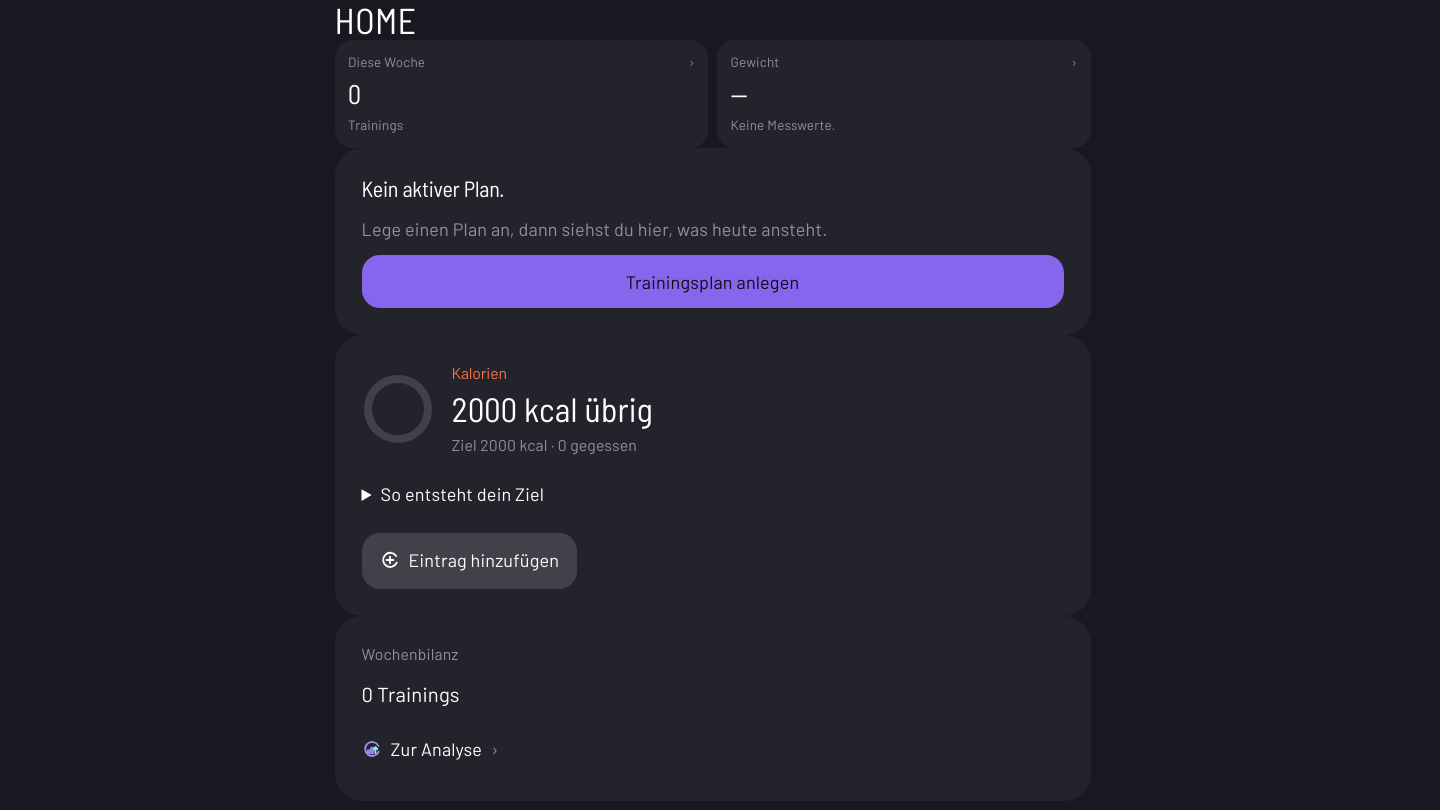
Test: HomePage › adds a meal right from the calorie card
The width and height of the screenshot is (1440, 810).
Step 1. Click the button "Eintrag hinzufügen" → (469, 561), box [362,533,577,589]
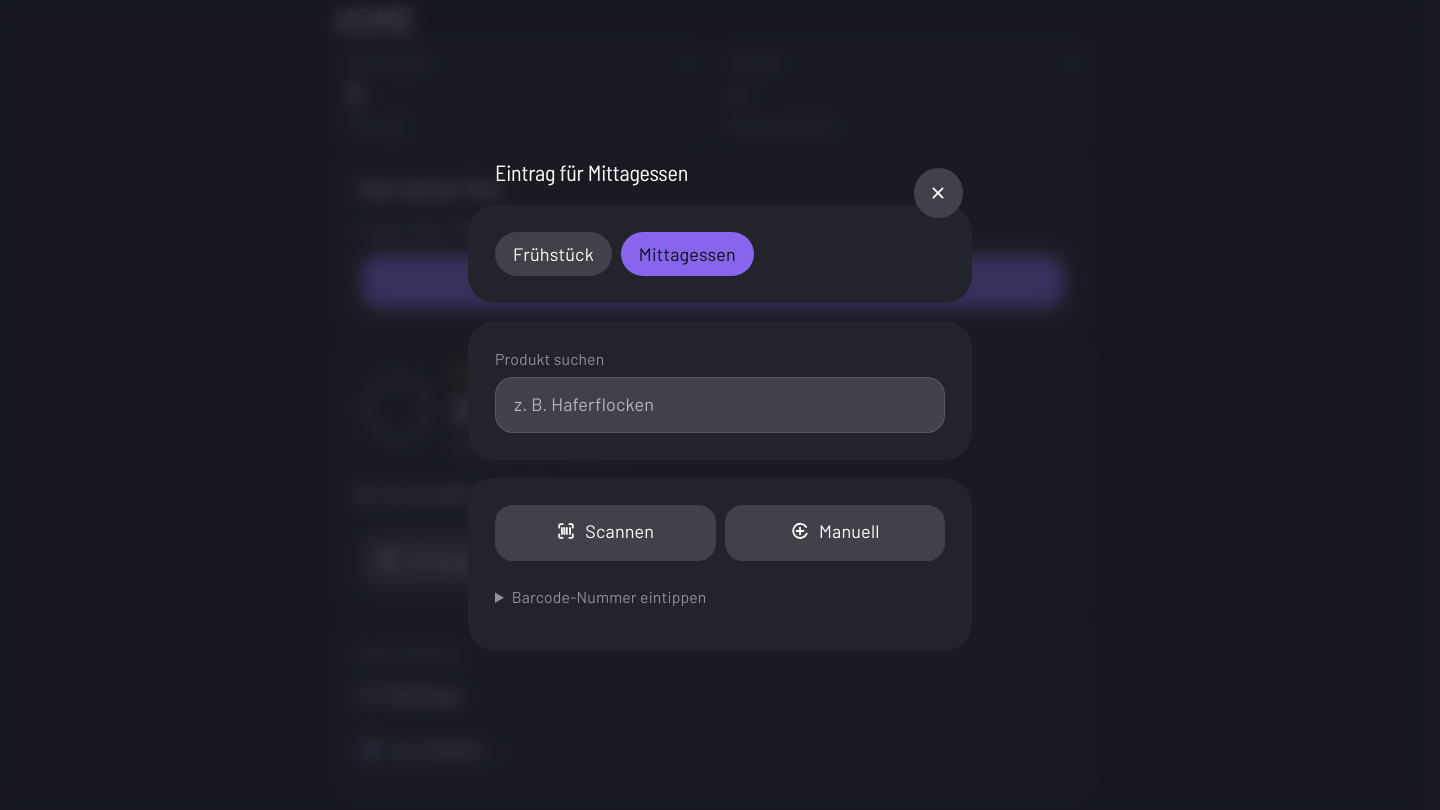
Result: the heading "Eintrag für Mittagessen" is shown at [495,159,688,185]
